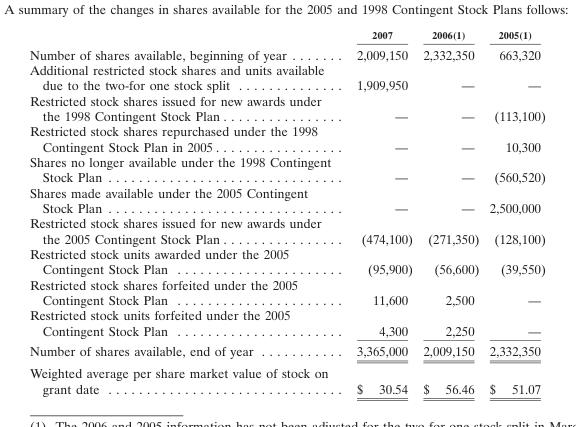table: (29, 28, 544, 396)
table column: (29, 28, 343, 396), (343, 28, 417, 396), (417, 28, 483, 396), (483, 28, 544, 396)
table column header: (29, 28, 544, 43)
table row: (29, 361, 544, 396), (29, 307, 544, 340), (29, 61, 544, 92), (29, 92, 544, 123), (29, 153, 544, 184), (29, 184, 544, 215), (29, 245, 544, 276), (29, 276, 544, 307), (29, 123, 544, 153), (29, 215, 544, 245), (29, 340, 544, 361), (29, 43, 544, 61), (29, 28, 544, 43)
